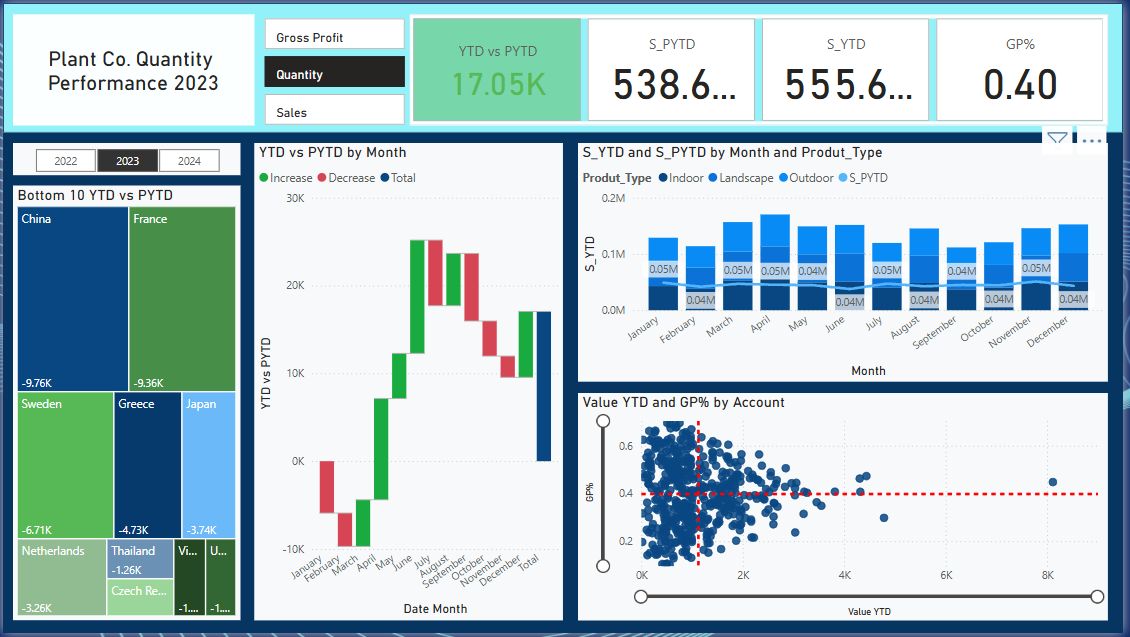

The page's visual inventory and layout, read from the dashboard file:
{"tool":"powerbi","page":{"name":"Page 1","canvas":[1280,720],"ordinal":0},"visuals":[{"type":"shape","box":[0,0,1280,148.3],"z":0},{"type":"cardVisual","fields":{"Data":["_Measures.S_PYTD","_Measures.S_YTD","_Measures.YTD vs PYTD","_Measures.GP%"]},"box":[464.3,12.9,798.6,127.1],"z":1000},{"type":"advancedSlicerVisual","fields":{"Values":["Slc_Values.Values"]},"box":[294.3,12.9,170,131.4],"z":2000},{"type":"slicer","fields":{"Values":["Dim_Date.Date.Variation.Date Hierarchy.Year"]},"box":[11.4,160,260,37.1],"z":3000},{"type":"treemap","title":"Bottom 10 YTD vs PYTD ","fields":{"Values":["_Measures.YTD vs PYTD"],"Group":["Dim_Account.country"]},"box":[11.4,208.6,260,497.1],"z":4000},{"type":"waterfallChart","fields":{"Y":["_Measures.YTD vs PYTD"],"Category":["Dim_Date.Date.Variation.Date Hierarchy.Month","Dim_Account.country"]},"box":[287.1,160,352.9,545.7],"z":5000},{"type":"lineStackedColumnComboChart","fields":{"Y":["_Measures.S_YTD"],"Y2":["_Measures.S_PYTD"],"Category":["Dim_Date.Date.Variation.Date Hierarchy.Quarter","Dim_Date.Date.Variation.Date Hierarchy.Month"],"Series":["Dim_Product.Produt_Type"]},"box":[657.1,160,605.7,272.9],"z":6000},{"type":"scatterChart","fields":{"Y":["_Measures.GP%"],"X":["_Measures.S_YTD"],"Category":["Dim_Account.Account"]},"box":[657.1,445.7,605.7,260],"z":7000},{"type":"card","fields":{"Values":["_Measures._Report Title"]},"box":[11.4,12.9,275.7,127.1],"z":8001}]}

Visuals, with their boxes in screenshot pixels (x1, y1, x2, y2), scaled from the page's 1280x720 canvas onto the 1130x637 screenshot:
shape: x1=0, y1=0, x2=1129, y2=131
cardVisual - _Measures.S_PYTD x _Measures.S_YTD: x1=410, y1=11, x2=1115, y2=124
advancedSlicerVisual - Slc_Values.Values: x1=260, y1=11, x2=410, y2=128
slicer - Dim_Date.Date.Variation.Date Hierarchy.Year: x1=10, y1=142, x2=240, y2=174
"Bottom 10 YTD vs PYTD " treemap: x1=10, y1=185, x2=240, y2=624
waterfallChart - _Measures.YTD vs PYTD x Dim_Date.Date.Variation.Date Hierarchy.Month: x1=253, y1=142, x2=565, y2=624
lineStackedColumnComboChart - _Measures.S_YTD x _Measures.S_PYTD: x1=580, y1=142, x2=1115, y2=383
scatterChart - _Measures.GP% x _Measures.S_YTD: x1=580, y1=394, x2=1115, y2=624
card - _Measures._Report Title: x1=10, y1=11, x2=253, y2=124
